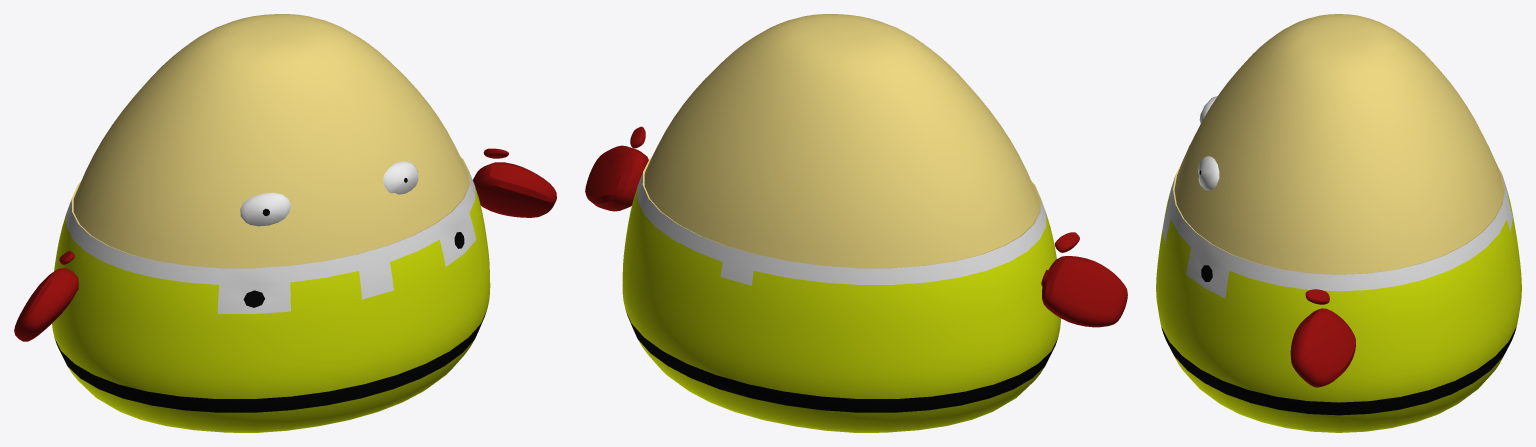
File: SaitamaMesh.fbx
3 renders of one model, left to right at view 1: azimuth 30°, elevation 25°; view 2: azimuth 150°, elevation 25°; view 3: azimuth 270°, elevation 25°, orthographic. The views are drawn at different scales.
Visible parts, largest first — view 1: Pou; view 2: Pou; view 3: Pou.
Boxes of the visible parts, left/top/right/bottom form: Pou: left=14, top=14, right=556, bottom=432; Pou: left=585, top=14, right=1127, bottom=432; Pou: left=1156, top=14, right=1521, bottom=432.
Bounding box in the file's own units: 281 × 173 × 172.
